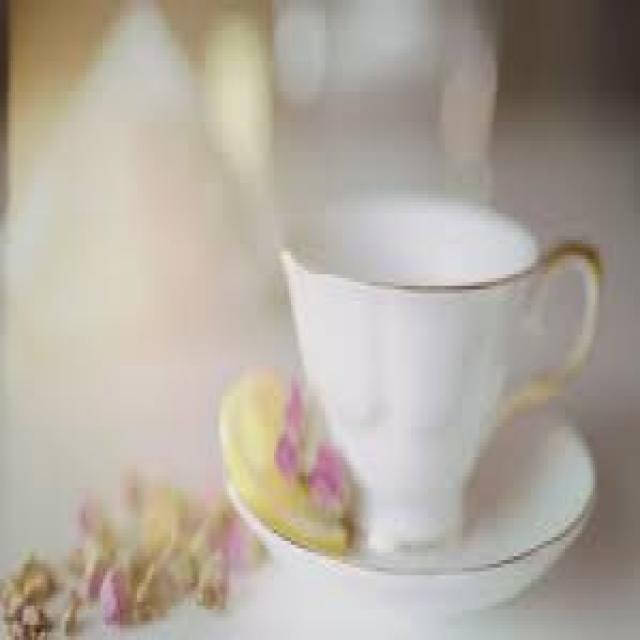taza: (273, 171, 616, 562)
